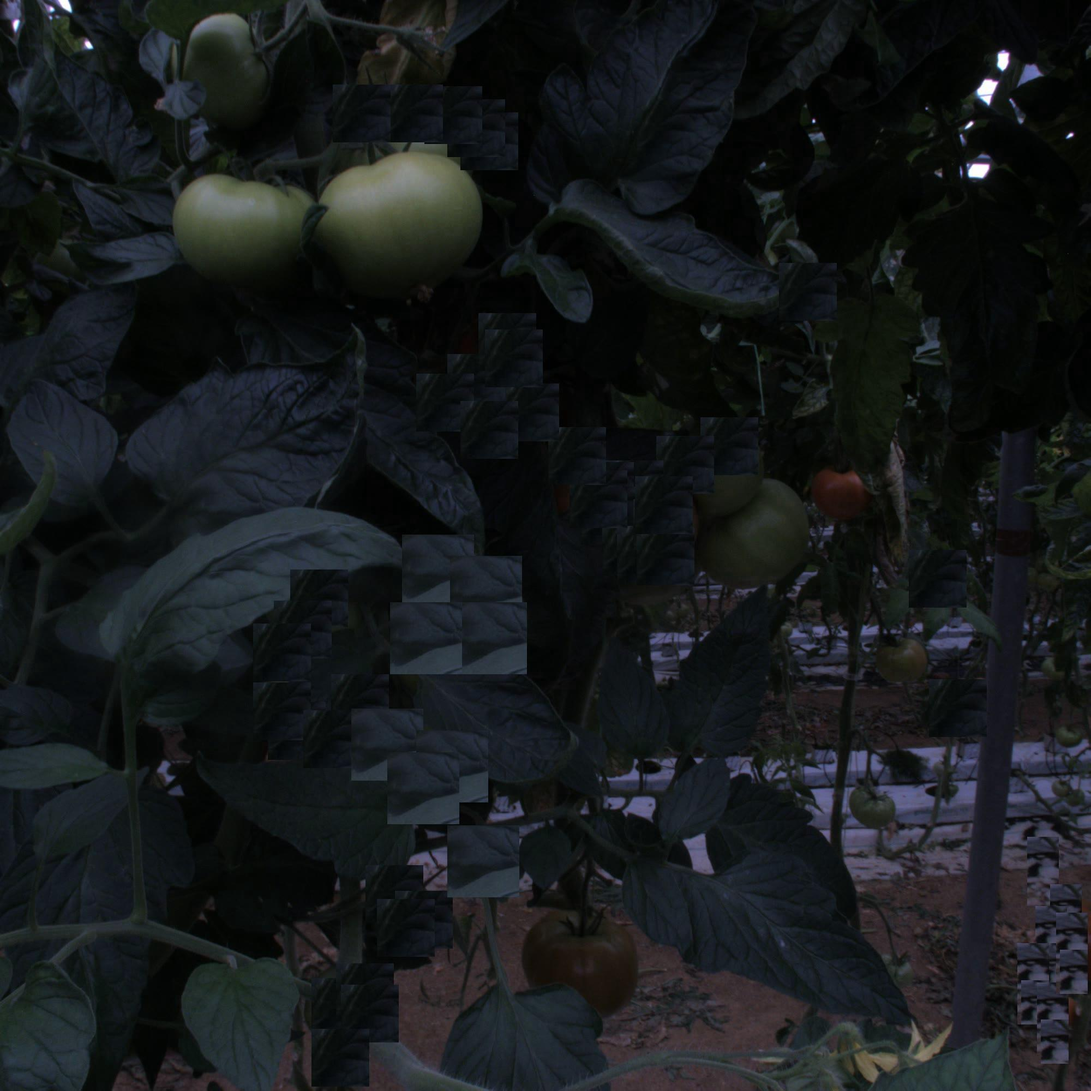['unripe', 'semi-ripe', 'fully-ripe']: (325, 143, 484, 302), (171, 163, 303, 295), (702, 478, 805, 580), (186, 20, 279, 112), (849, 784, 894, 829), (879, 636, 924, 680)
